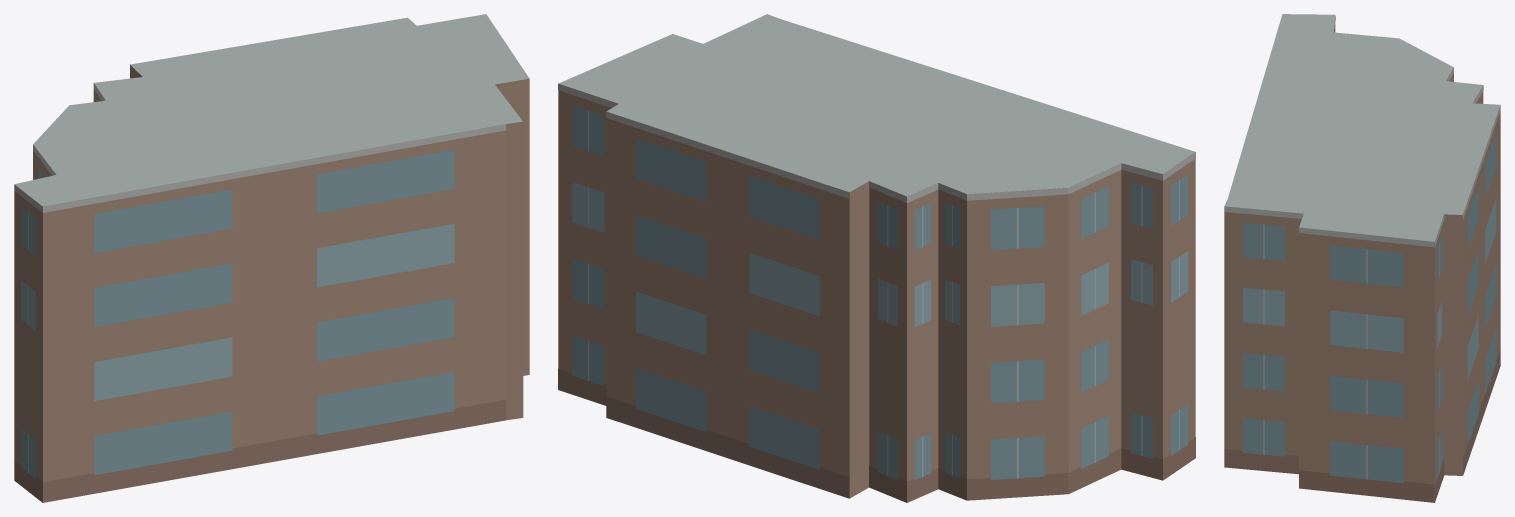
Rendered from survey-upis-32644439.glb.
3 views of the same model, side by side, from view 1: azimuth 30°, elevation 25°; view 2: azimuth 150°, elevation 25°; view 3: azimuth 270°, elevation 25° (orthographic). The views are drawn at different scales.
Visible parts, largest first — view 1: survey-upis-32644439.tmp; view 2: survey-upis-32644439.tmp; view 3: survey-upis-32644439.tmp.
Part boxes in pixels (x1,y1,x2,y2): survey-upis-32644439.tmp: (14, 14, 529, 502); survey-upis-32644439.tmp: (558, 14, 1195, 502); survey-upis-32644439.tmp: (1224, 14, 1500, 502).
Size of the model in its own units: 21.45 by 11.45 by 10.99.
